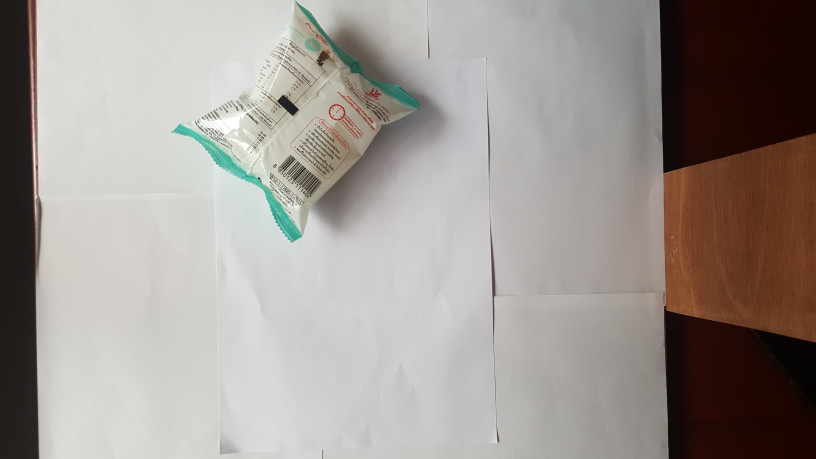farmhouse-sweetsandwich-chocolate: (173, 1, 427, 242)
